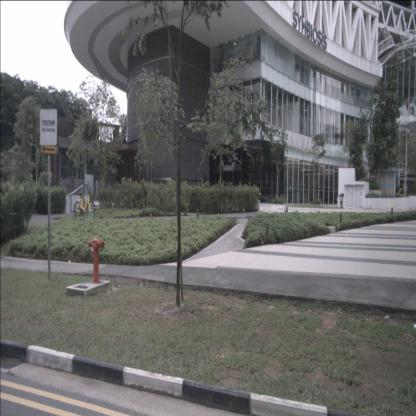human-pedestrian-adult: (288, 184, 292, 204)
vehicle-bicycle: (74, 182, 95, 220)
